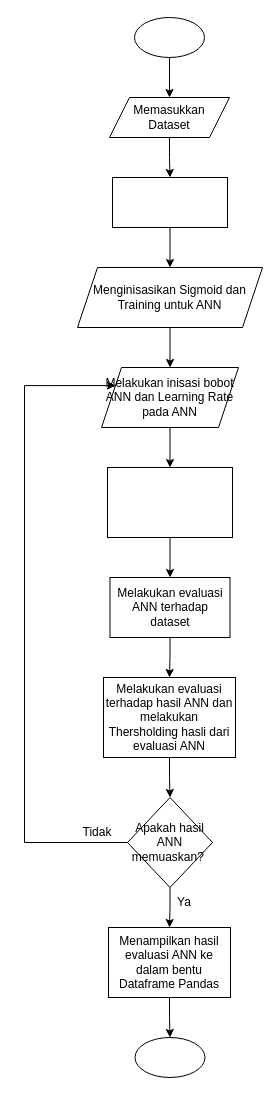
The diagram is 280 pixels wide and 1095 high, and some of its shapes have lost their labels. Each missing label, with the centre of its shape:
Melakukan training ANN terhadap dataset dengan jumlah Epoch tertentu: (x=169, y=502)
Mengelolah dataset dengan Pandas dan Numpy: (x=170, y=202)
Mulai: (x=169, y=37)
Selesai: (x=169, y=1057)
